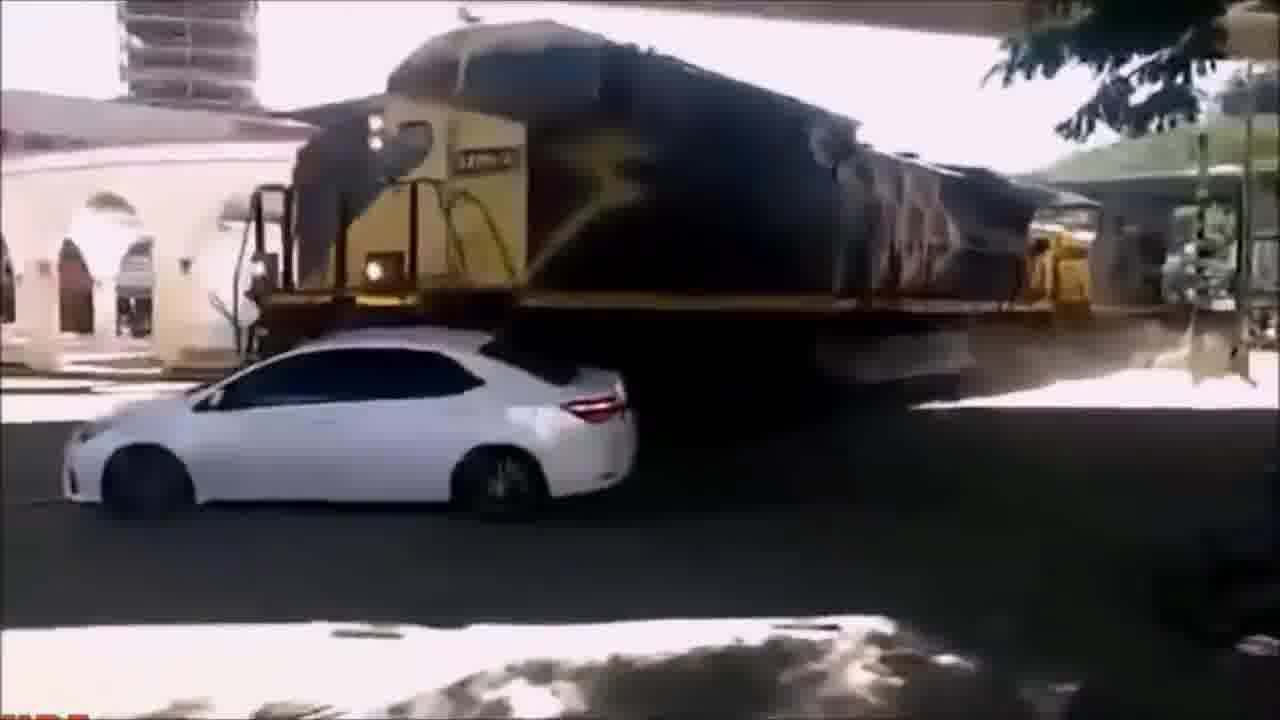crossing railway track: (32, 250, 705, 584)
